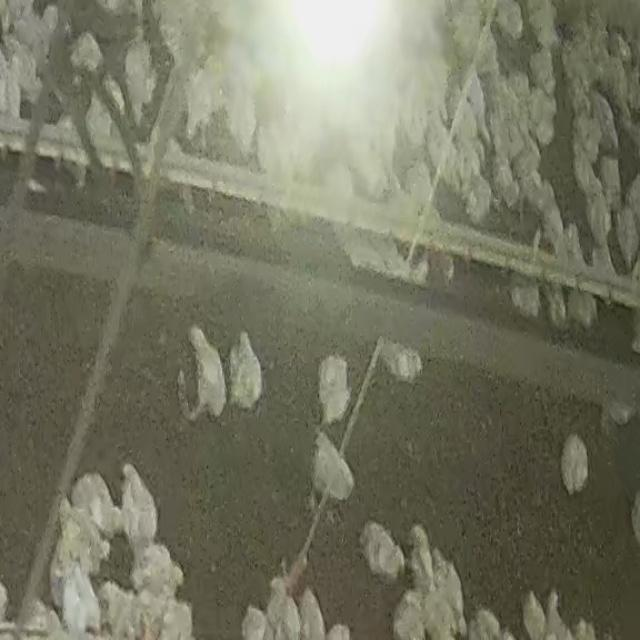chicken: (186, 328, 229, 422), (119, 462, 159, 561), (222, 329, 266, 414), (54, 560, 103, 636), (0, 29, 45, 101), (71, 471, 116, 542), (312, 431, 356, 503), (123, 30, 155, 127), (358, 520, 404, 581), (438, 552, 471, 634), (100, 583, 144, 640), (132, 551, 187, 596), (317, 355, 352, 425), (377, 340, 424, 384), (528, 85, 560, 149), (408, 524, 437, 592), (538, 277, 573, 333), (591, 86, 620, 151), (560, 434, 591, 494), (407, 160, 438, 216), (0, 54, 24, 123), (571, 284, 601, 338), (393, 593, 426, 640), (70, 31, 98, 86), (466, 169, 491, 227), (589, 190, 615, 244), (531, 0, 560, 46), (571, 146, 600, 192), (598, 156, 624, 207), (530, 47, 556, 97), (521, 590, 548, 638), (512, 275, 537, 321), (497, 0, 523, 41)
